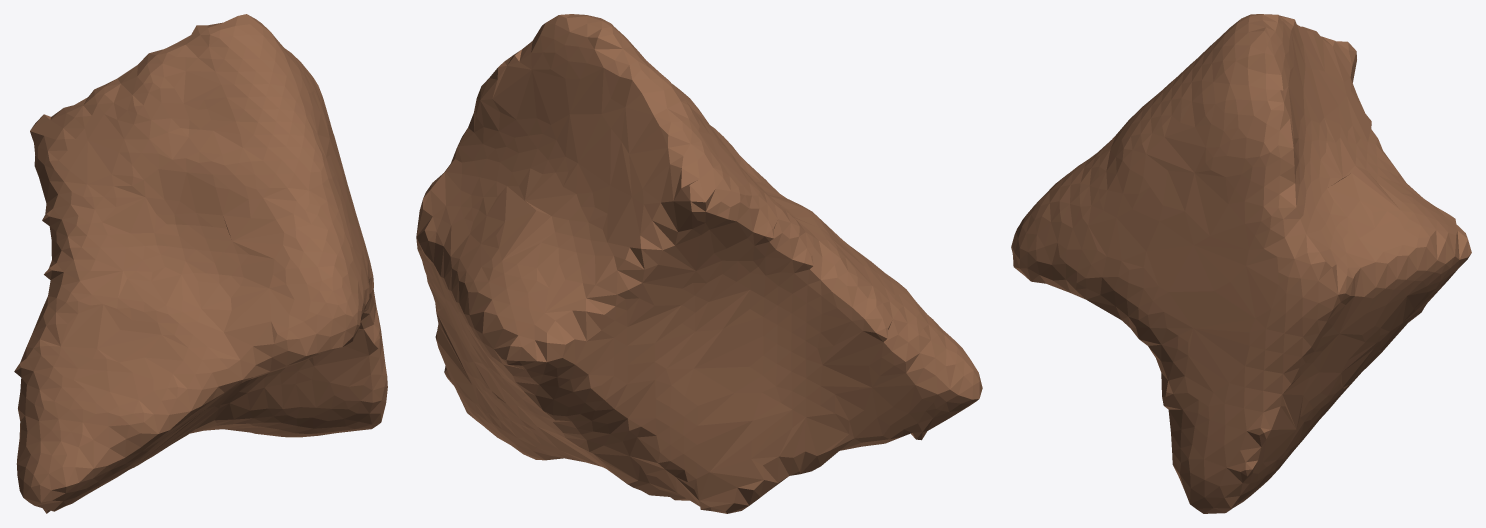
File: Model_82_RH__Auditory_cortex__rostral_area_(AuR).obj
3 views of the same model, side by side, from view 1: azimuth 30°, elevation 25°; view 2: azimuth 150°, elevation 25°; view 3: azimuth 270°, elevation 25° (orthographic). The views are drawn at different scales.
Bounding box in the file's own units: 2.49 × 2.38 × 2.25.
